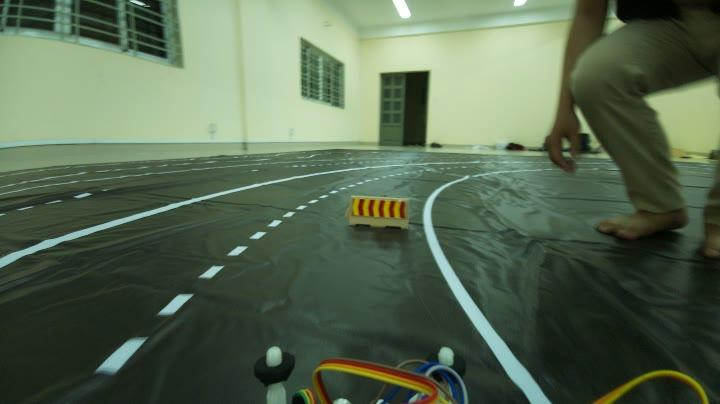roadblock: (341, 188, 418, 227)
